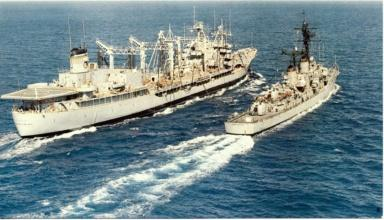Cargoship: (2, 6, 265, 134)
warship: (229, 7, 335, 138)
